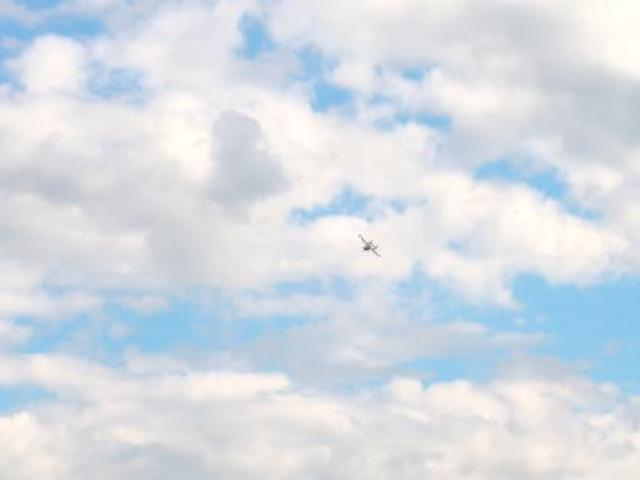uav: (356, 230, 382, 259)
